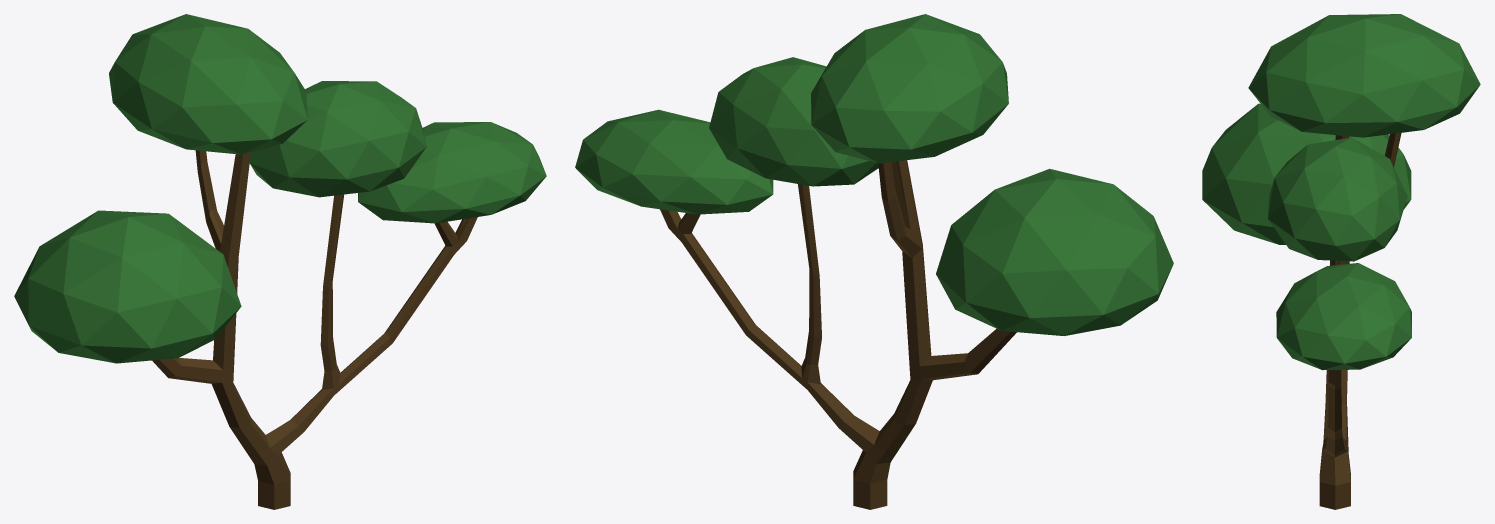
File: Tree05.fbx
3 views of the same model, side by side, from view 1: azimuth 30°, elevation 25°; view 2: azimuth 150°, elevation 25°; view 3: azimuth 270°, elevation 25° (orthographic). The views are drawn at different scales.
Visible parts, largest first — view 1: Tree05; view 2: Tree05; view 3: Tree05.
Part boxes in pixels (x1=…): Tree05: x1=14, y1=14, x2=546, y2=509; Tree05: x1=575, y1=14, x2=1173, y2=509; Tree05: x1=1202, y1=14, x2=1480, y2=509.
Bounding box in the file's own units: 21.58 × 18.56 × 10.21.
